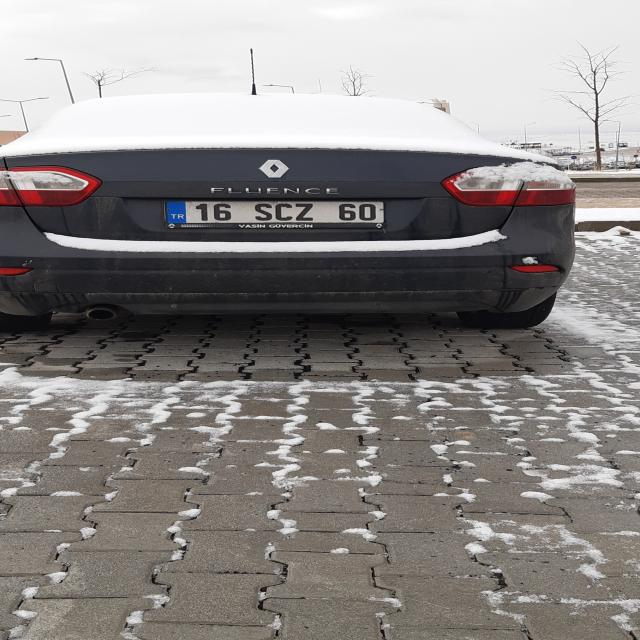license_plate: (164, 201, 385, 223)
